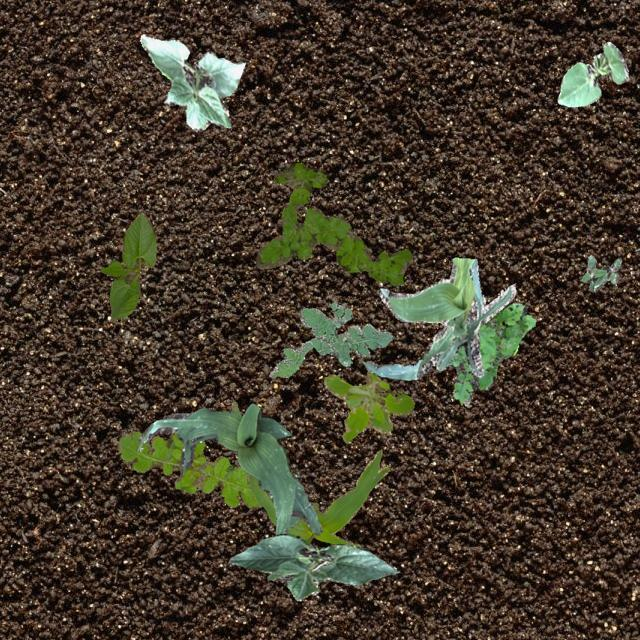crop: (136, 402, 322, 534), (230, 401, 388, 546), (362, 256, 514, 380), (228, 532, 398, 600), (138, 34, 244, 130), (100, 212, 156, 320), (556, 40, 626, 106)
weed: (256, 162, 412, 284), (117, 430, 260, 508), (268, 300, 392, 376), (448, 302, 534, 406), (322, 370, 413, 442), (580, 253, 620, 290)
